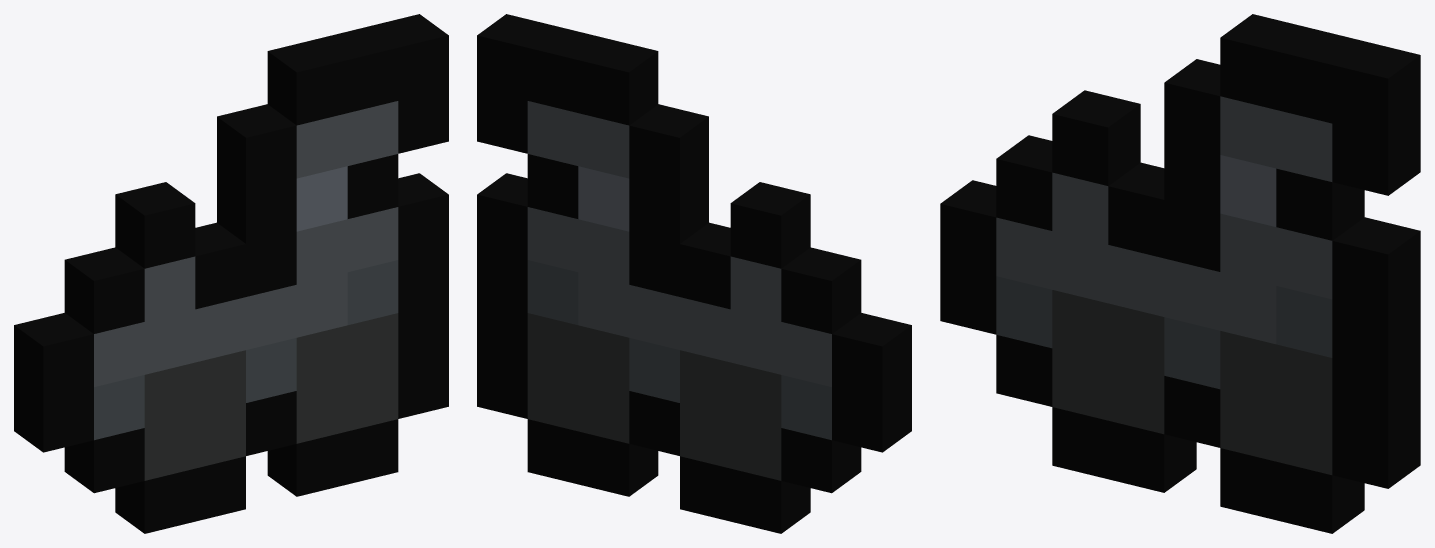
Rendered from Gray Kart Item.glb.
3 renders of one model, left to right at view 1: azimuth 30°, elevation 25°; view 2: azimuth 150°, elevation 25°; view 3: azimuth 330°, elevation 25°, orthographic. The views are drawn at different scales.
Parts seen in each view (by area): view 1: generated(Clone); view 2: generated(Clone); view 3: generated(Clone).
Boxes of the visible parts, x1,y1,x2,y2 form: generated(Clone): [14, 14, 448, 533]; generated(Clone): [477, 14, 911, 533]; generated(Clone): [940, 14, 1420, 533].
Bounding box in the file's own units: 8 × 8 × 1.
1 material, 1 textured.
